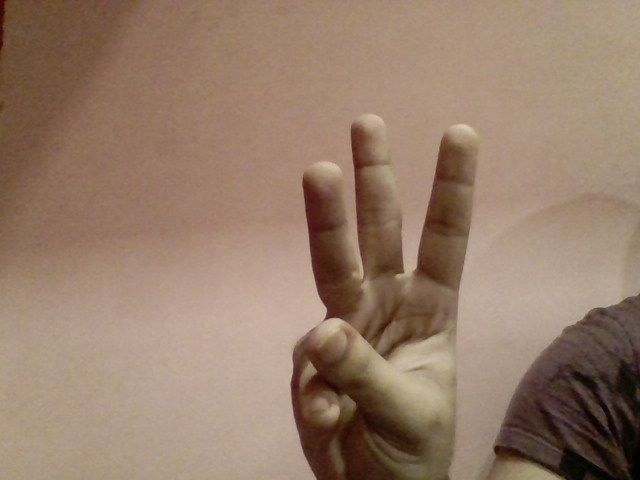w: (268, 104, 487, 480)
